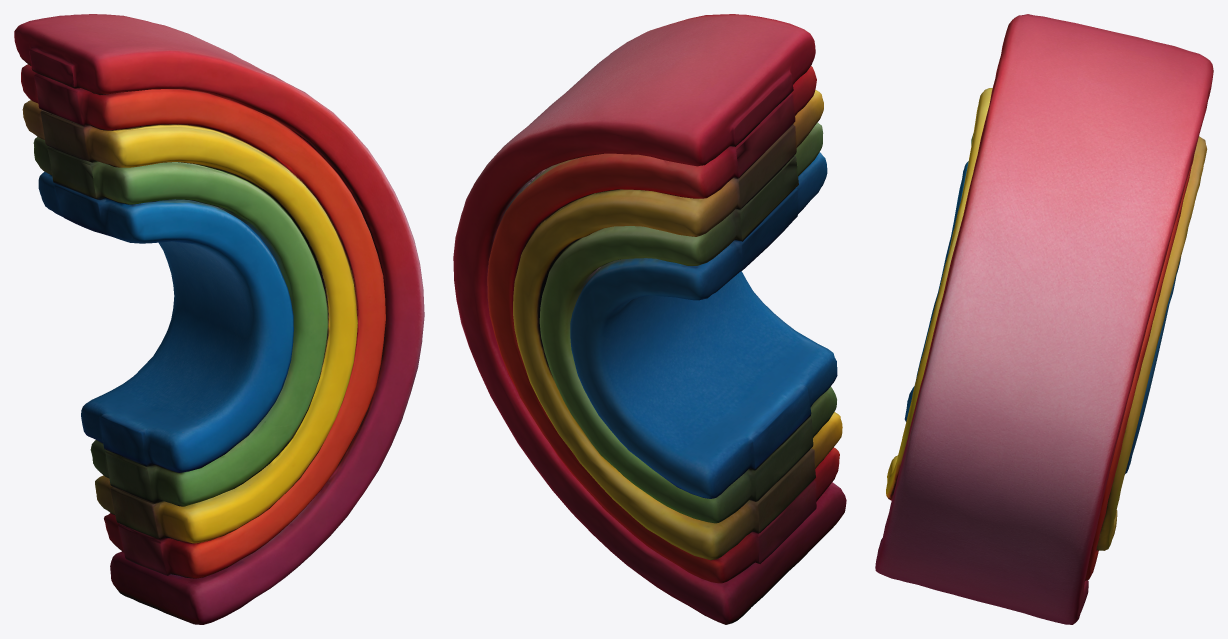
File: Stack 5C - Rainbow.glb
The picture shows the model from 3 angles, left to right: view 1: azimuth 30°, elevation 25°; view 2: azimuth 150°, elevation 25°; view 3: azimuth 270°, elevation 25°; orthographic projection. The views are drawn at different scales.
Parts seen in each view (by area): view 1: Rainbow; view 2: Rainbow; view 3: Rainbow.
Part boxes in pixels (<box>): Rainbow: <box>14,14,424,624</box>; Rainbow: <box>453,14,846,624</box>; Rainbow: <box>875,14,1213,624</box>.
Size of the model in its own units: 0.5605 by 1 by 0.5356.
Materials: 1 (1 with a texture image).
